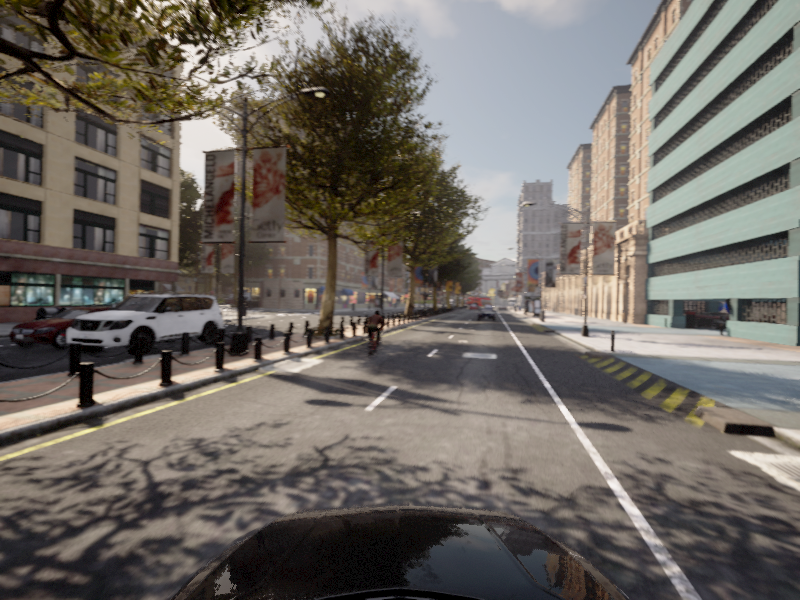vehicle: (55, 290, 231, 360), (1, 305, 156, 351), (359, 309, 389, 361), (477, 307, 495, 321)
